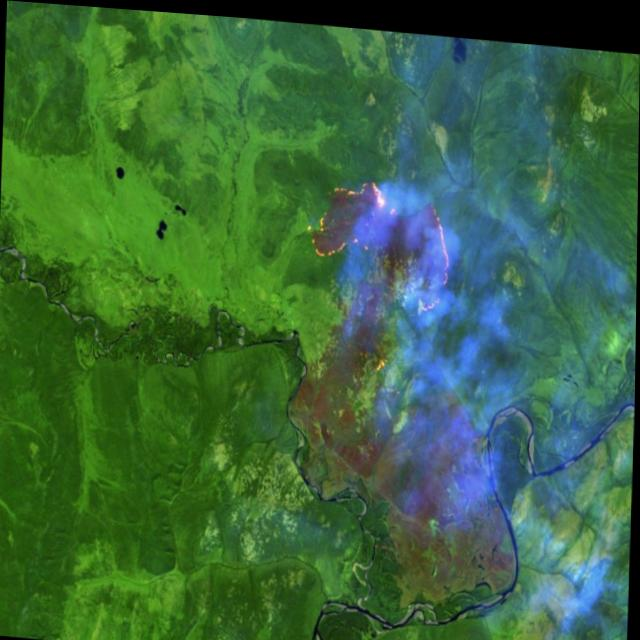fire: (297, 155, 457, 377)
